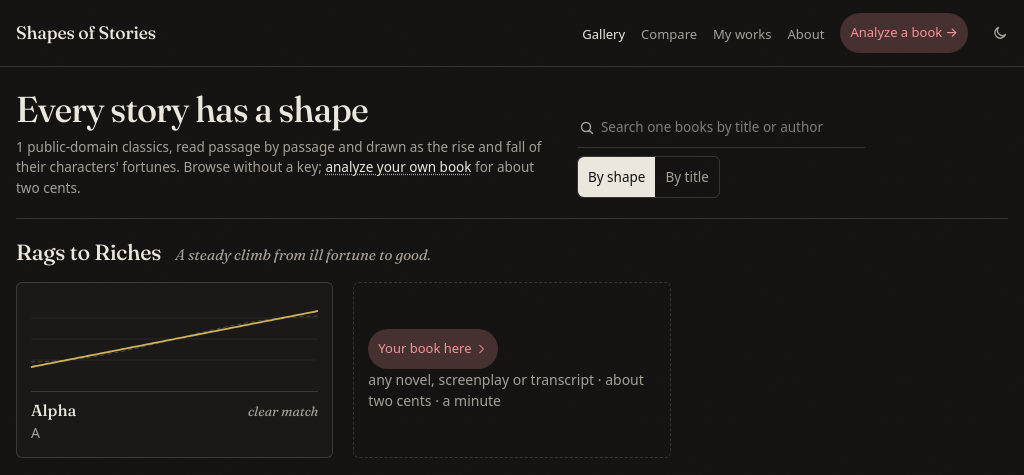
Test: a work whose file fails, reached from its plate, says so on its own page after one request
What coordinates should you click on to do the following:
click the link with aria-label "Alpha by A"
I would click on:
 (175, 370)
Its box is [16,282,333,458].
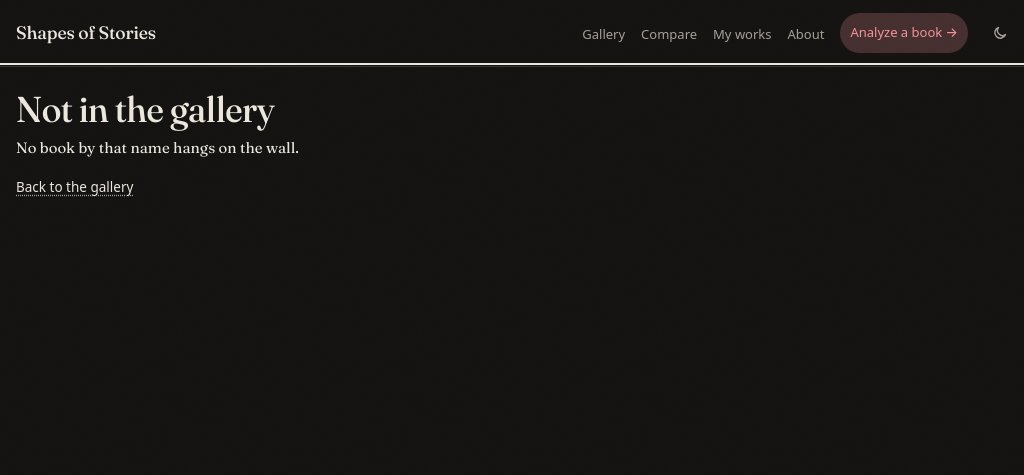
Expected: the heading "Not in the gallery" is shown, [16,87,274,131]
